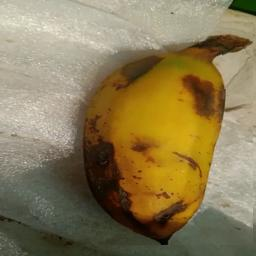Banana Semirotten: (75, 15, 253, 246)
